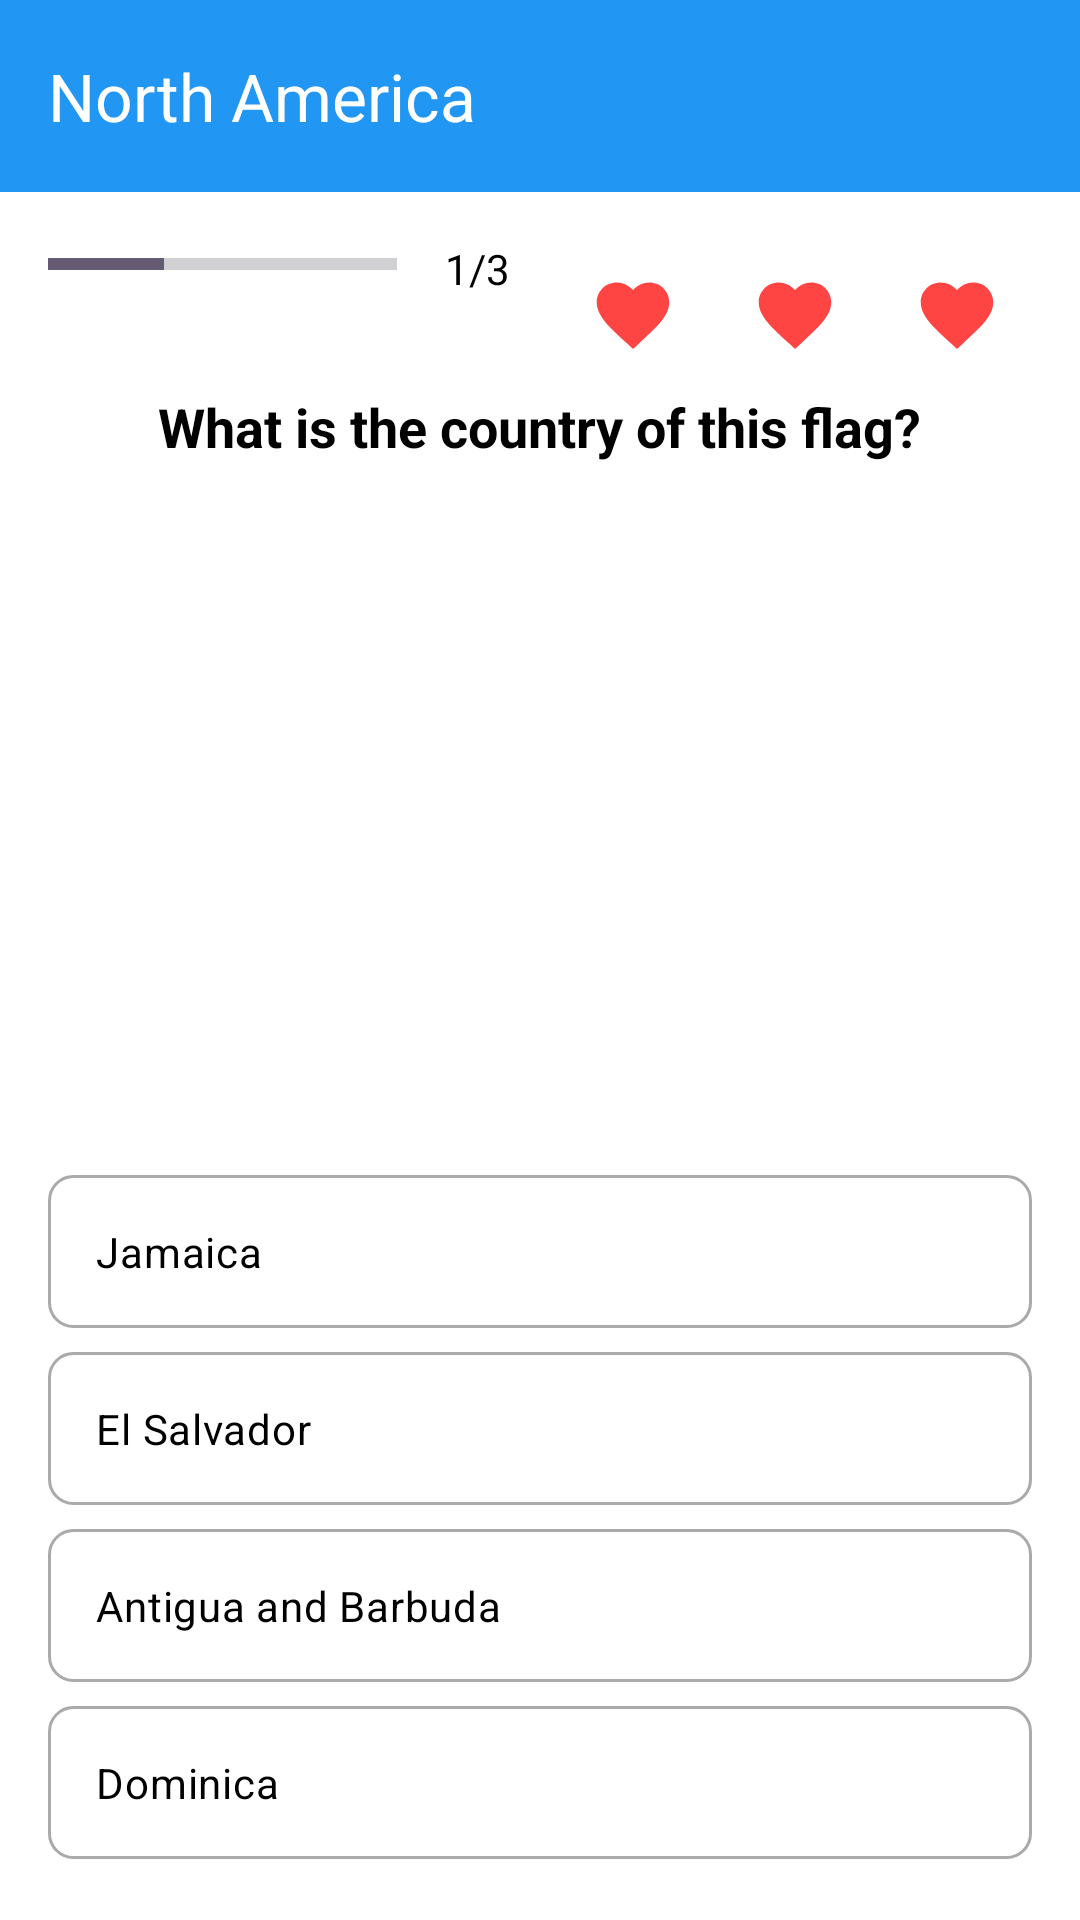

Icons on this 1080×1920 Android screen, each with the point to tap as [x,y]:
heart: [633,315], [795,315], [957,315]
